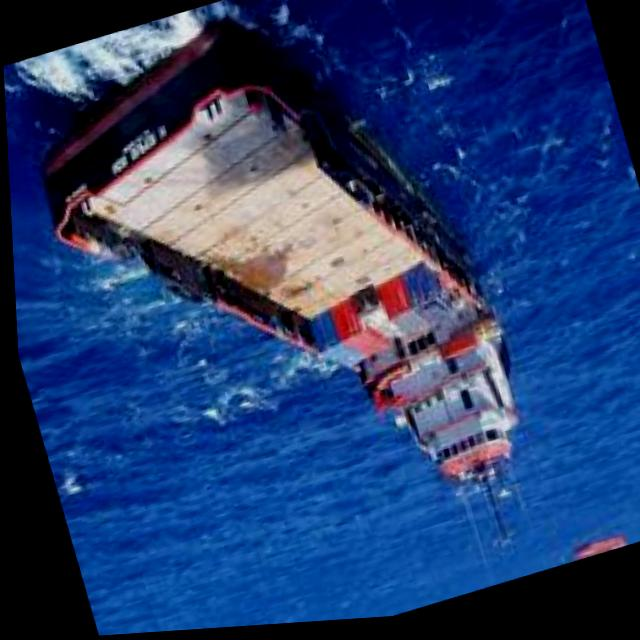ship2: (35, 19, 519, 554)
